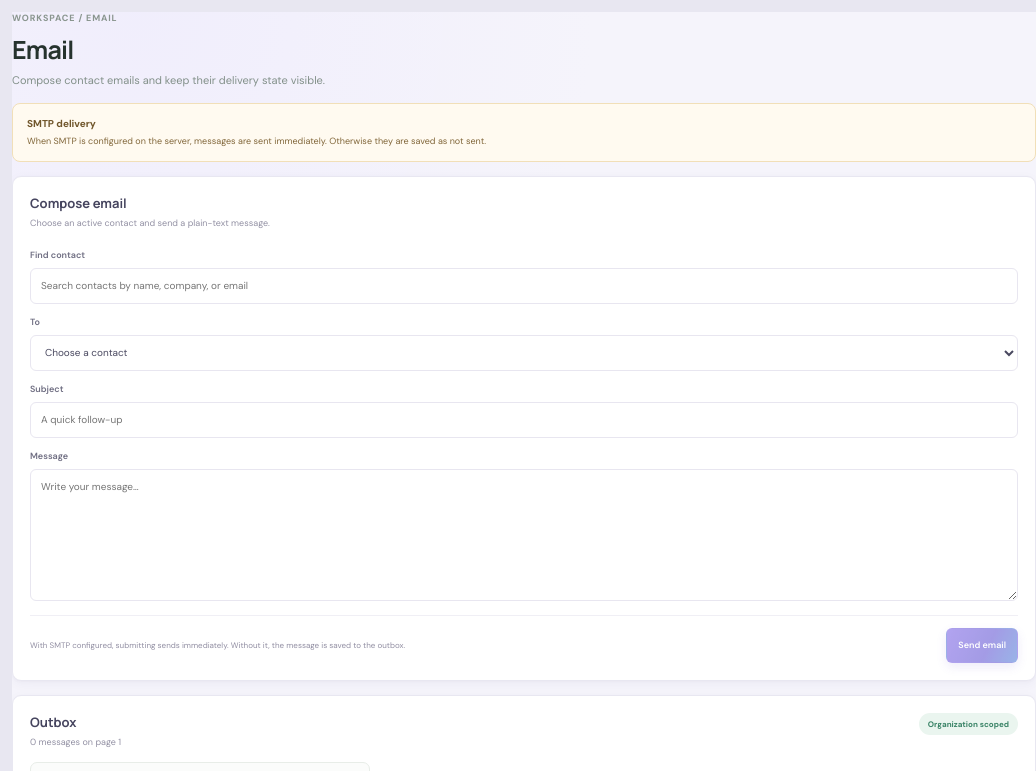
EmailsManager › shows failed API errors without displaying a success notice
This screenshot has width=1036, height=771.
Select "Olivia Rhye — olivia@example.com" in the dropdown labelled "To" at (524, 352), box [30, 334, 1018, 370]
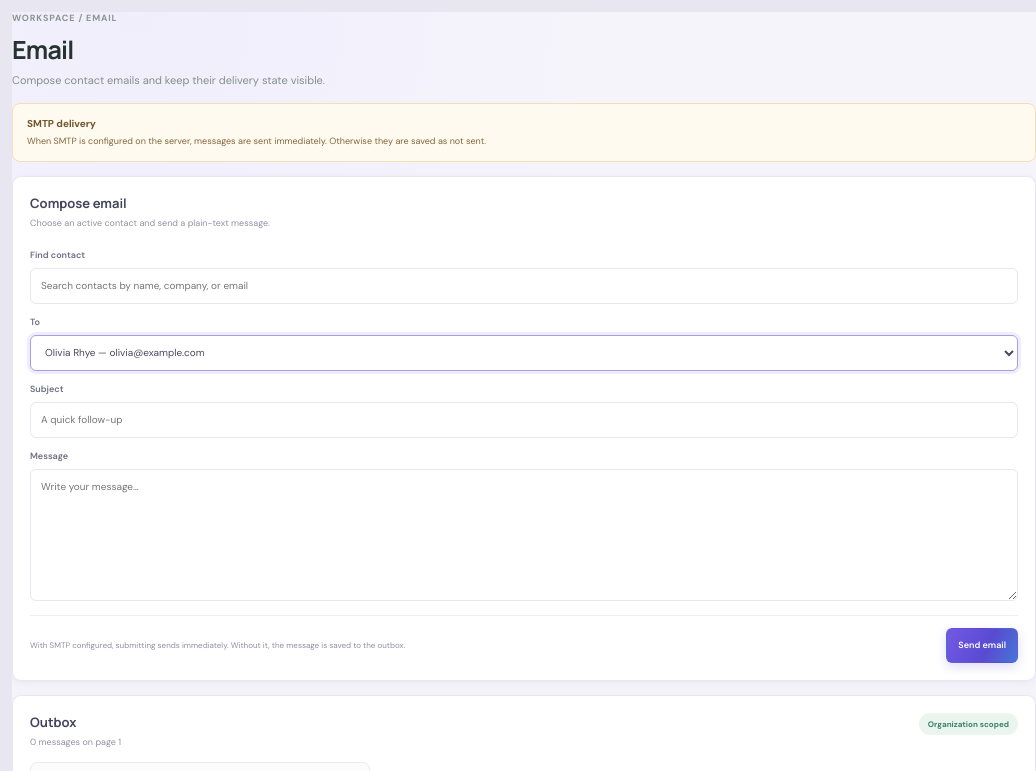
Type "Follow-up" into the field labelled "Subject" at (524, 420), box [30, 402, 1018, 438]
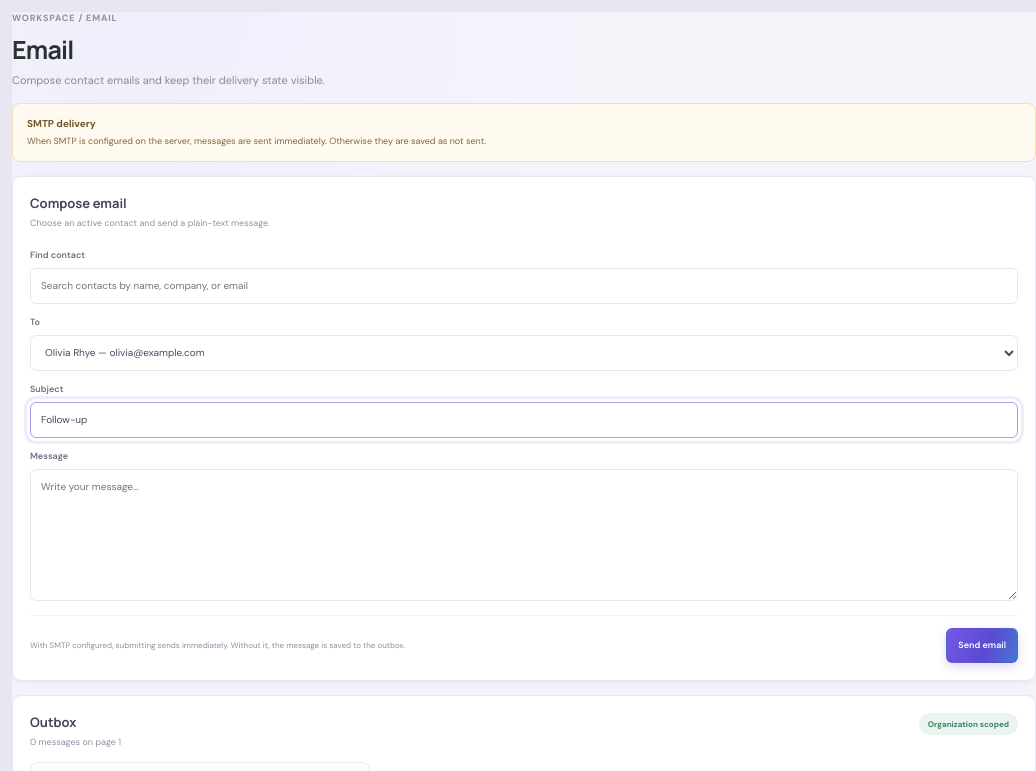
Type "Thanks for your time." into the text box labelled "Message" at (524, 534), box [30, 468, 1018, 600]
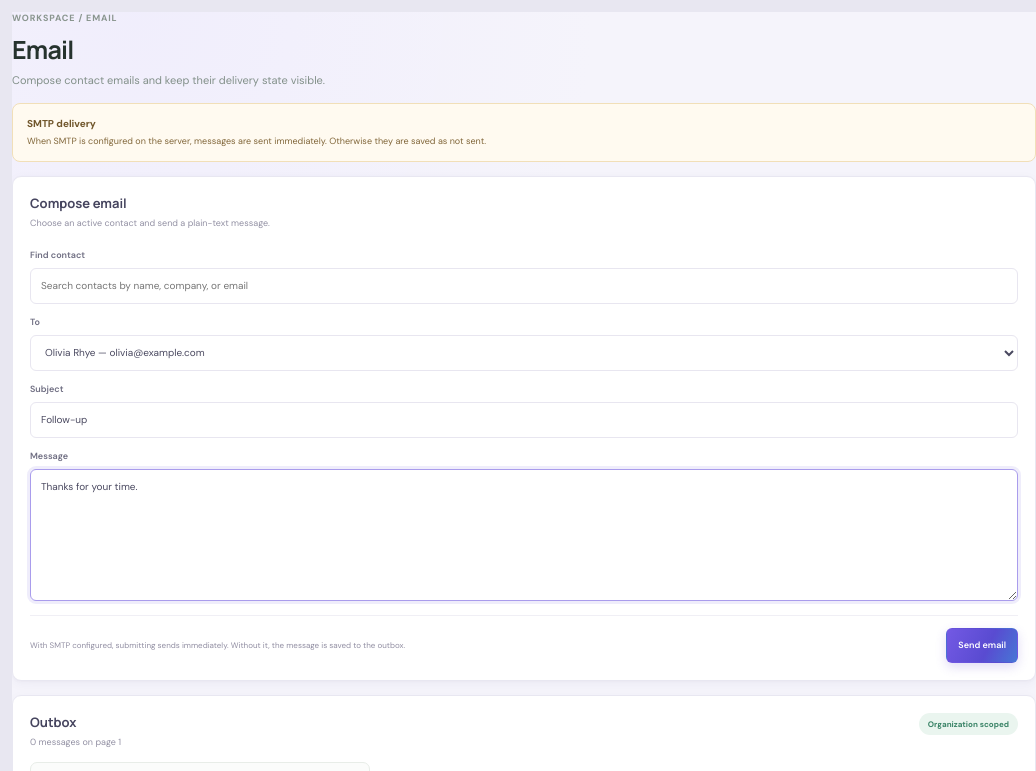
Click the button "Send email" at (982, 645), box [946, 628, 1018, 662]
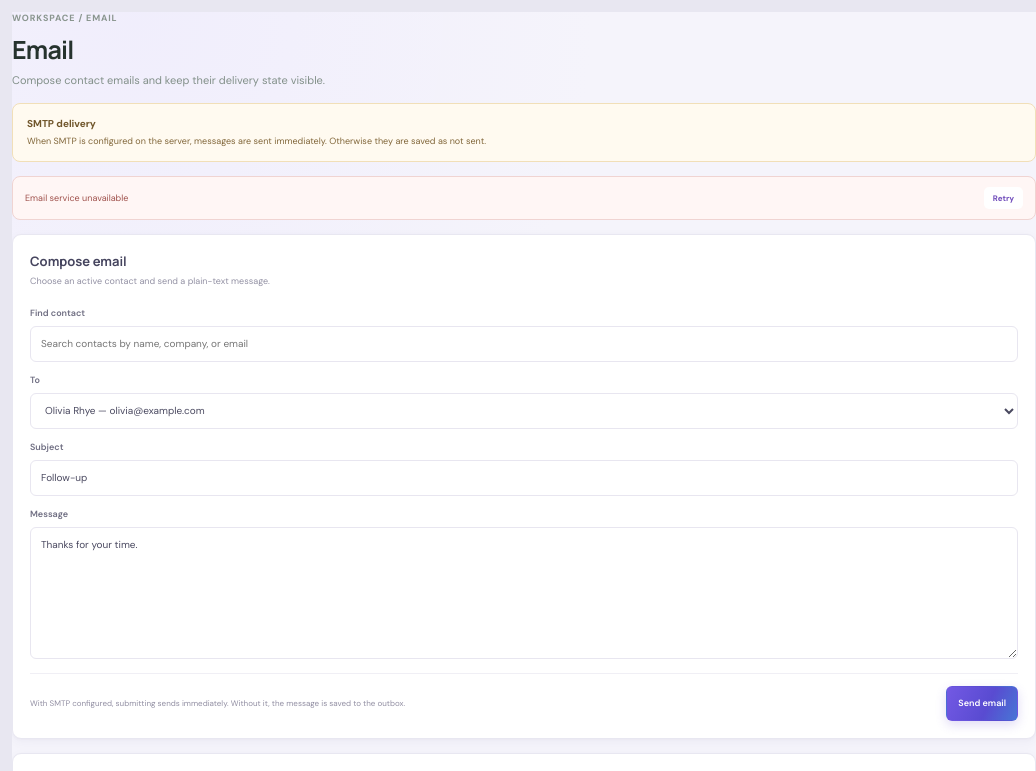
Check: the message shows "Email service unavailable", box [25, 192, 128, 204]
